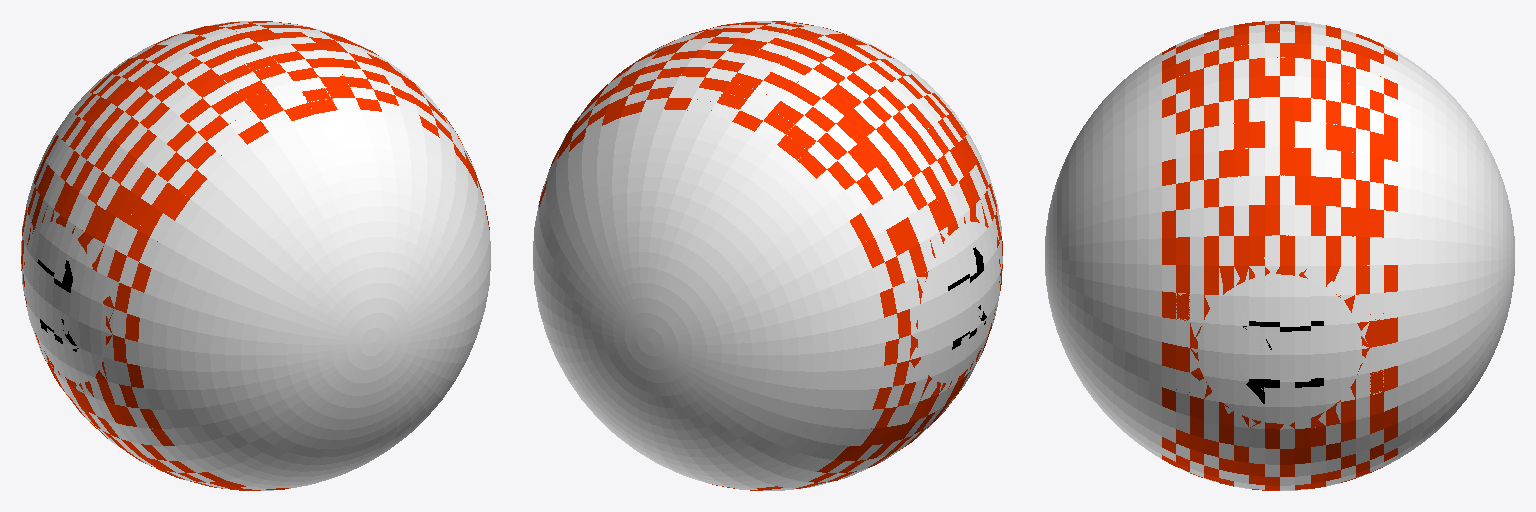
File: ball_2.obj
3 renders of one model, left to right at view 1: azimuth 30°, elevation 25°; view 2: azimuth 150°, elevation 25°; view 3: azimuth 270°, elevation 25°, orthographic.
Visible parts, largest first — view 1: Mesh1 G_11_Ball1 Component_1_1 Model; view 2: Mesh1 G_11_Ball1 Component_1_1 Model; view 3: Mesh1 G_11_Ball1 Component_1_1 Model.
Part boxes in pixels (x1,y1,x2,y2): Mesh1 G_11_Ball1 Component_1_1 Model: (21,21,490,490); Mesh1 G_11_Ball1 Component_1_1 Model: (533,21,1002,490); Mesh1 G_11_Ball1 Component_1_1 Model: (1045,21,1514,490).
Size of the model in its own units: 0.0571 by 0.0571 by 0.057.